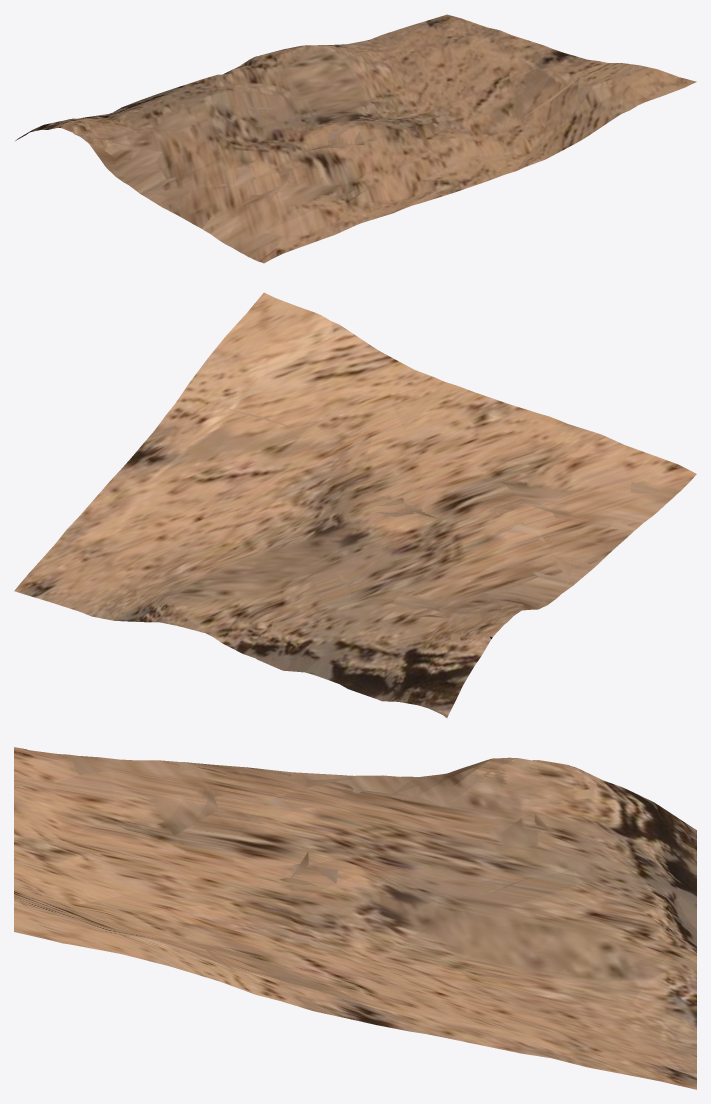
3 views of the same model, one above another, from view 1: azimuth 30°, elevation 25°; view 2: azimuth 150°, elevation 25°; view 3: azimuth 270°, elevation 25° (orthographic). The views are drawn at different scales.
Size of the model in its own units: 1.04 by 0.3167 by 1.04.
Materials: 3 (3 with a texture image).
